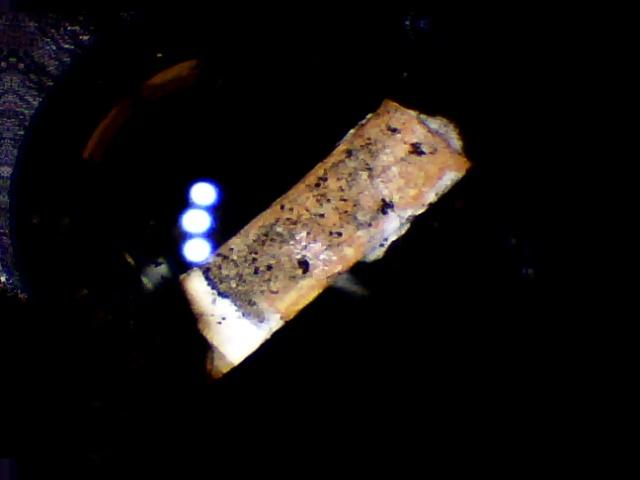megot: (167, 76, 484, 409)
